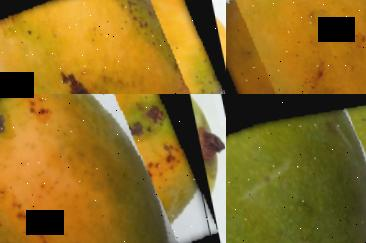PartiallyRipe: (0, 94, 218, 243)
Ripe: (0, 0, 226, 94), (226, 0, 366, 94)
Unripe: (226, 94, 366, 243)
